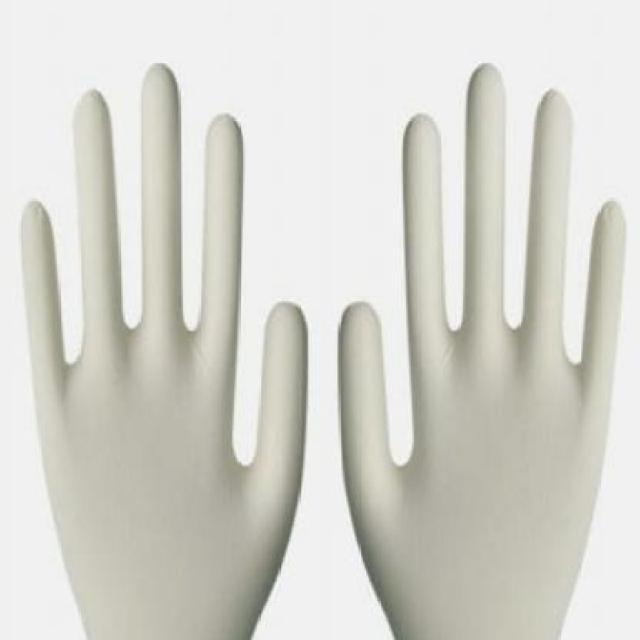glove_hand: (324, 49, 630, 638), (7, 56, 312, 638)
